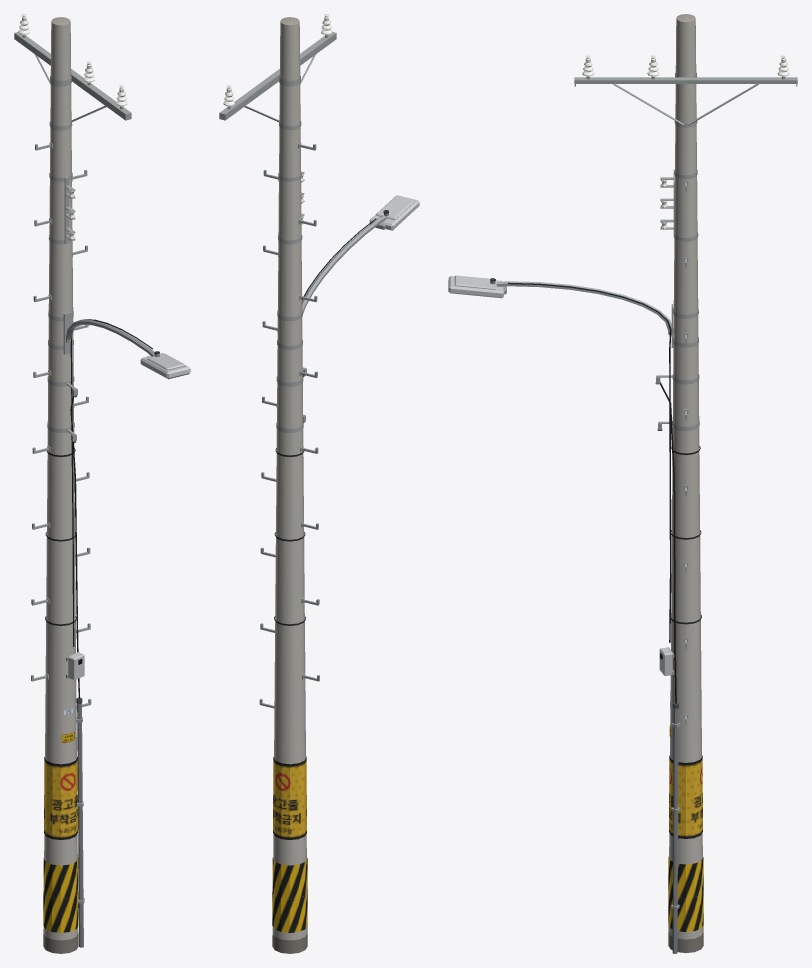
Rendered from SC_Util_Pole_Streetlight.gltf.
3 renders of one model, left to right at view 1: azimuth 30°, elevation 25°; view 2: azimuth 150°, elevation 25°; view 3: azimuth 270°, elevation 25°, orthographic.
Parts seen in each view (by area): view 1: SC_Util_Pole_Streetlight; view 2: SC_Util_Pole_Streetlight; view 3: SC_Util_Pole_Streetlight.
Part boxes in pixels (x1=…): SC_Util_Pole_Streetlight: x1=14, y1=14, x2=190, y2=953; SC_Util_Pole_Streetlight: x1=219, y1=14, x2=419, y2=953; SC_Util_Pole_Streetlight: x1=448, y1=14, x2=797, y2=953.
Bounding box in the file's own units: 0.7372 × 11.02 × 3.75.
3 materials, 3 textured.
